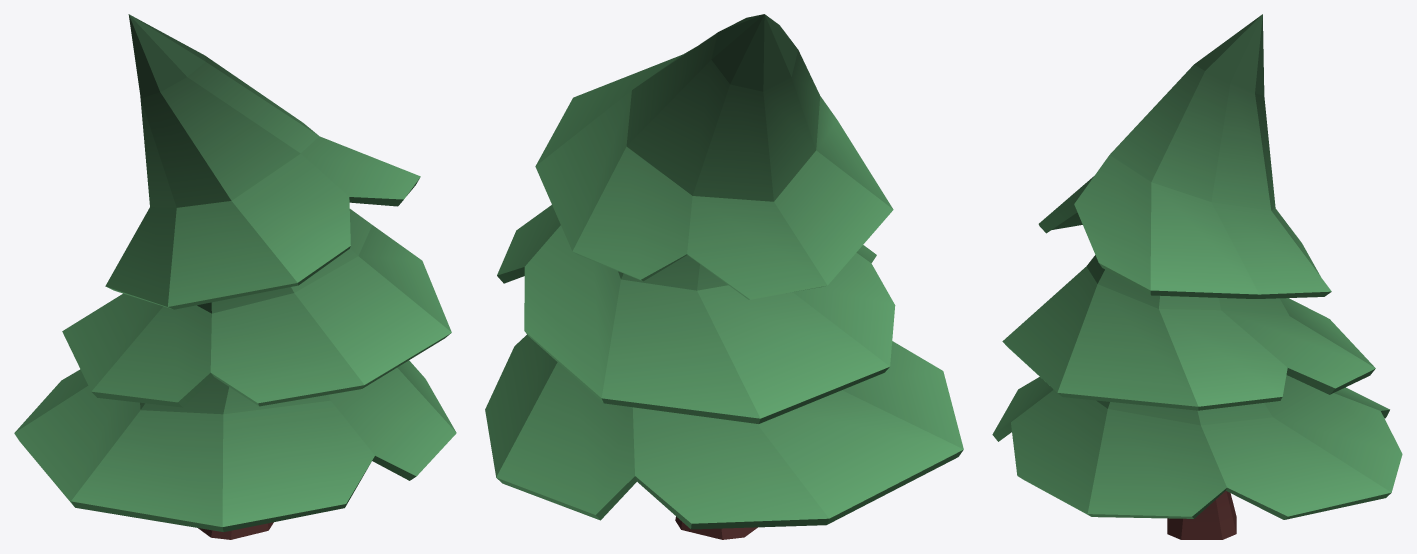
Rendered from DarkPine4.fbx.
3 renders of one model, left to right at view 1: azimuth 30°, elevation 25°; view 2: azimuth 150°, elevation 25°; view 3: azimuth 270°, elevation 25°, orthographic. The views are drawn at different scales.
Visible parts, largest first — view 1: DarkPine4; view 2: DarkPine4; view 3: DarkPine4.
Boxes of the visible parts, x1,y1,x2,y2 form: DarkPine4: [14, 14, 456, 539]; DarkPine4: [485, 14, 963, 539]; DarkPine4: [992, 14, 1402, 539].
Bounding box in the file's own units: 436 × 551 × 428.
